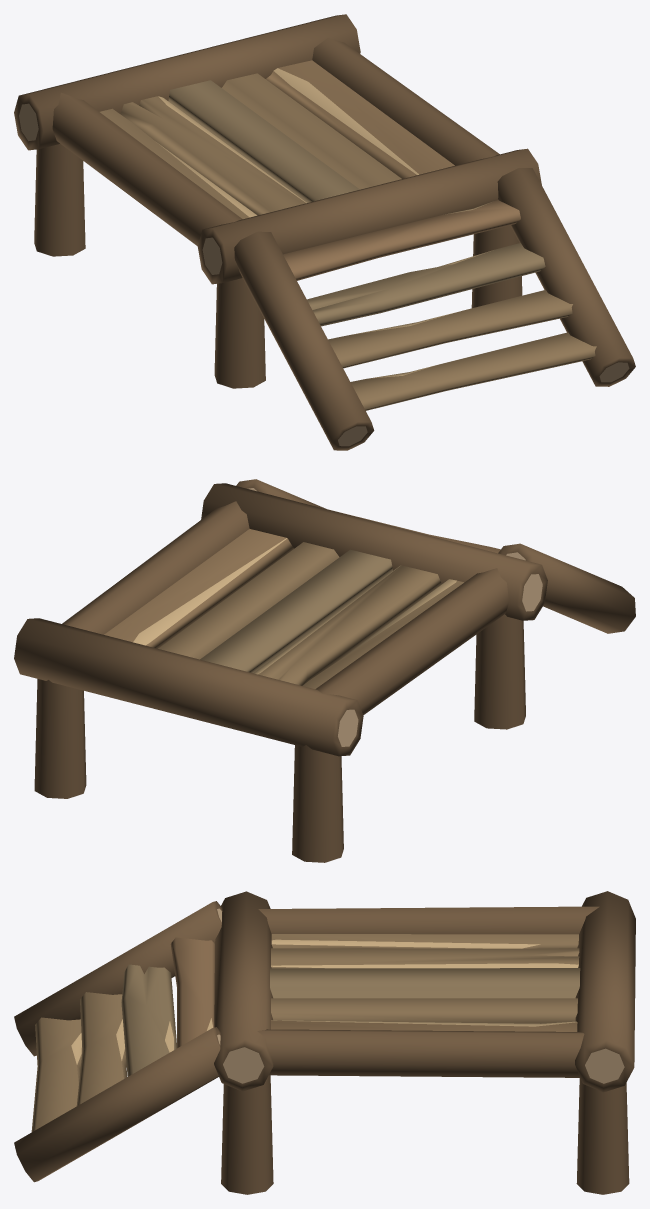
Rendered from rpgpp_ag_stairs_entrance_02.fbx.
The picture shows the model from 3 angles, top to bottom: view 1: azimuth 30°, elevation 25°; view 2: azimuth 150°, elevation 25°; view 3: azimuth 270°, elevation 25°; orthographic projection. The views are drawn at different scales.
Parts seen in each view (by area): view 1: rpgpp_ag_stairs_entrance_02; view 2: rpgpp_ag_stairs_entrance_02; view 3: rpgpp_ag_stairs_entrance_02.
Boxes of the visible parts, <box> form: rpgpp_ag_stairs_entrance_02: <box>14,14,635,450</box>; rpgpp_ag_stairs_entrance_02: <box>14,479,635,862</box>; rpgpp_ag_stairs_entrance_02: <box>14,891,635,1194</box>.
Bounding box in the file's own units: 2.44 × 1.18 × 4.17.
